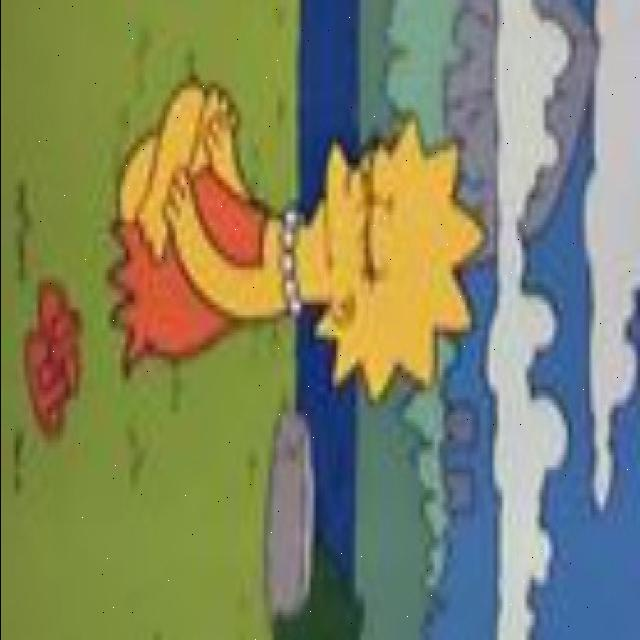Lisa Simpson: (288, 118, 486, 408)
